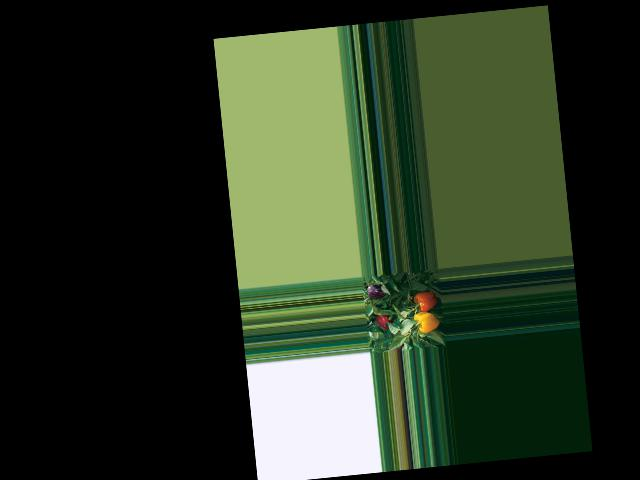bell_pepper: (412, 305, 439, 334)
